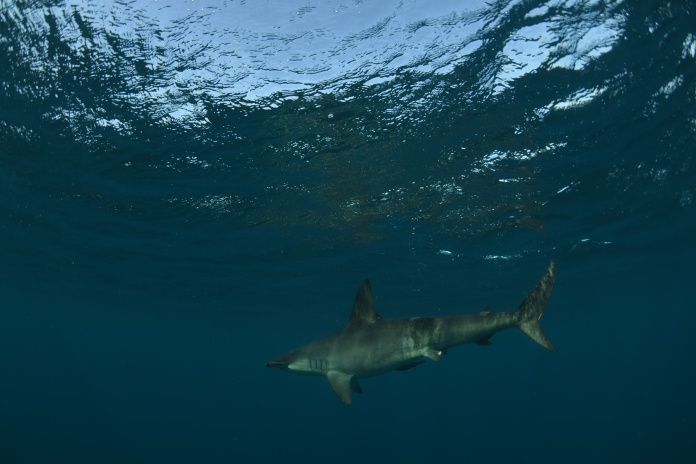Hammer: (254, 250, 565, 420)
